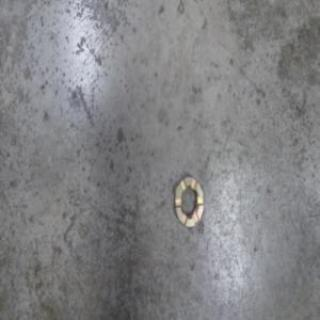Nuttrack_idkeyframe: (172, 172, 203, 230)
